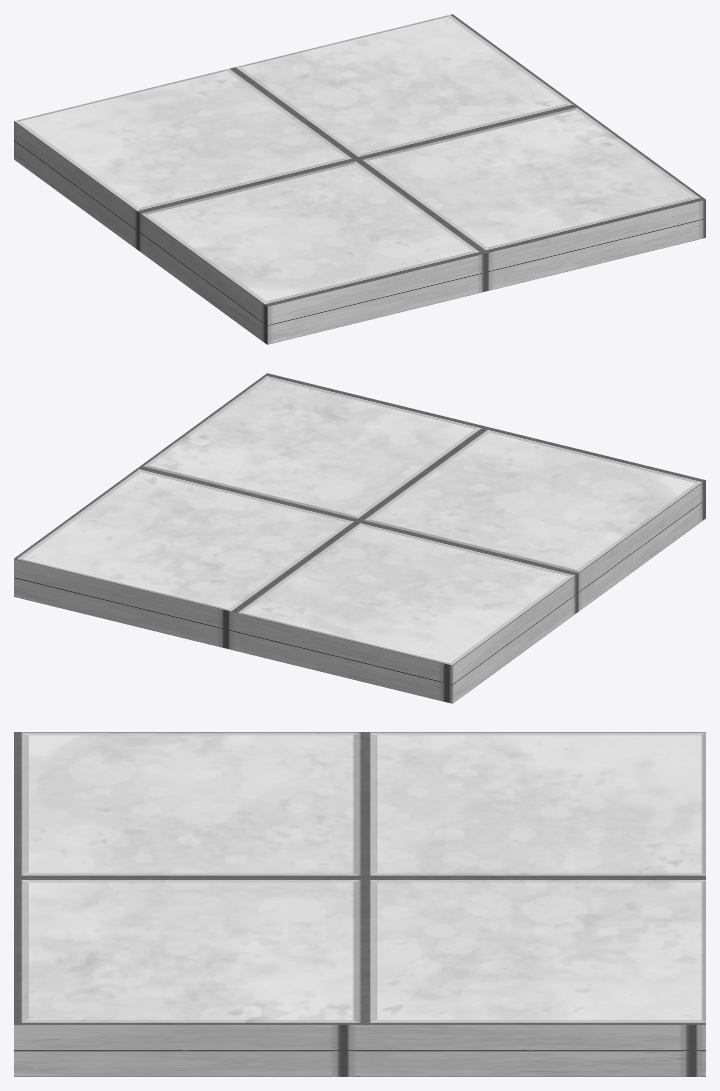
Rendered from floor_basic.fbx.
3 views of the same model, one above another, from view 1: azimuth 30°, elevation 25°; view 2: azimuth 150°, elevation 25°; view 3: azimuth 270°, elevation 25° (orthographic). The views are drawn at different scales.
Visible parts, largest first — view 1: floor_basic13; view 2: floor_basic13; view 3: floor_basic13.
Boxes of the visible parts, left/top/right/bottom form: floor_basic13: left=14, top=14, right=705, bottom=344; floor_basic13: left=14, top=373, right=705, bottom=703; floor_basic13: left=14, top=732, right=705, bottom=1076.
Size of the model in its own units: 300 by 25 by 300.
1 material, 1 textured.
